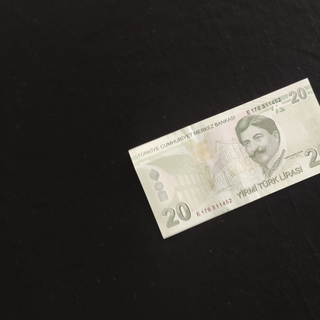20TLBack: (128, 77, 320, 240)
